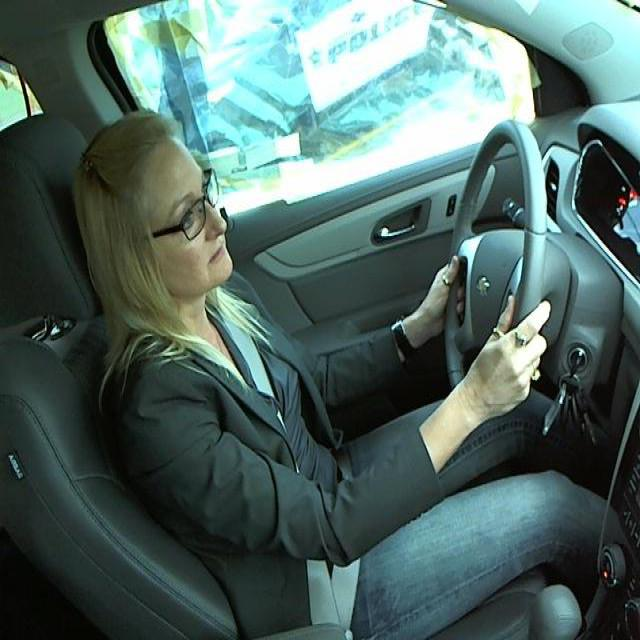seatbelt: (241, 310, 366, 614)
